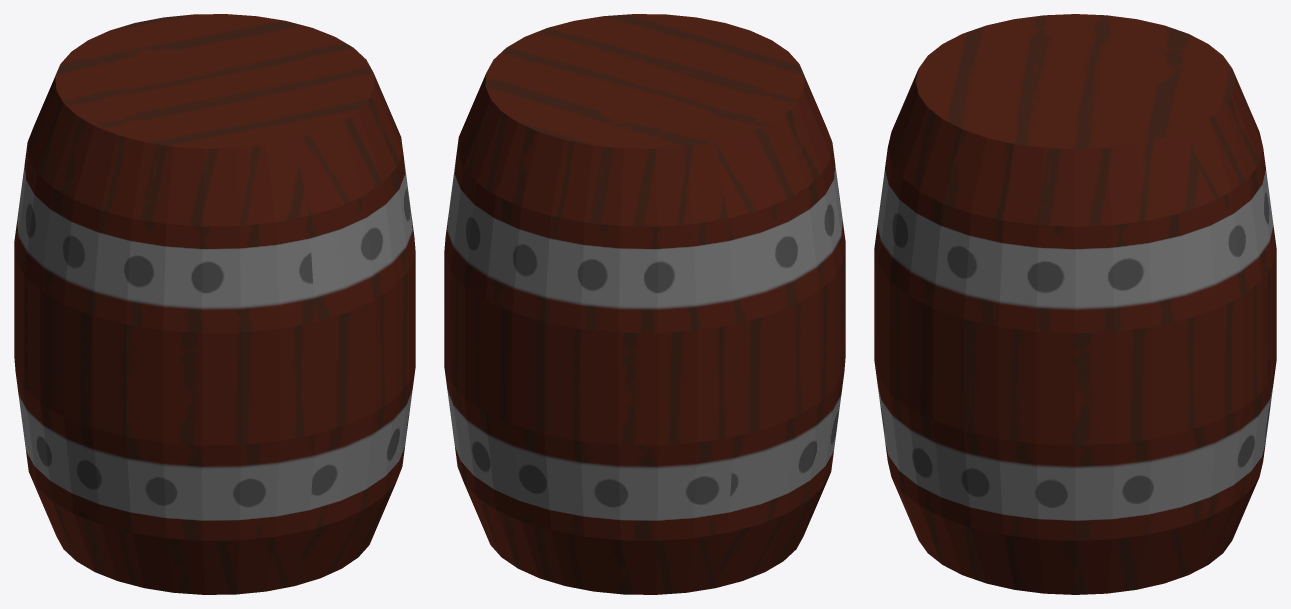
The model's file is Barrel.fbx.
3 views of the same model, side by side, from view 1: azimuth 30°, elevation 25°; view 2: azimuth 150°, elevation 25°; view 3: azimuth 270°, elevation 25° (orthographic).
Visible parts, largest first — view 1: Cylinder.002; view 2: Cylinder.002; view 3: Cylinder.002.
Part boxes in pixels (x1=…): Cylinder.002: x1=14, y1=14, x2=415, y2=594; Cylinder.002: x1=444, y1=14, x2=845, y2=594; Cylinder.002: x1=874, y1=14, x2=1276, y2=594.
Bounding box in the file's own units: 1.1 × 1.34 × 1.1.
